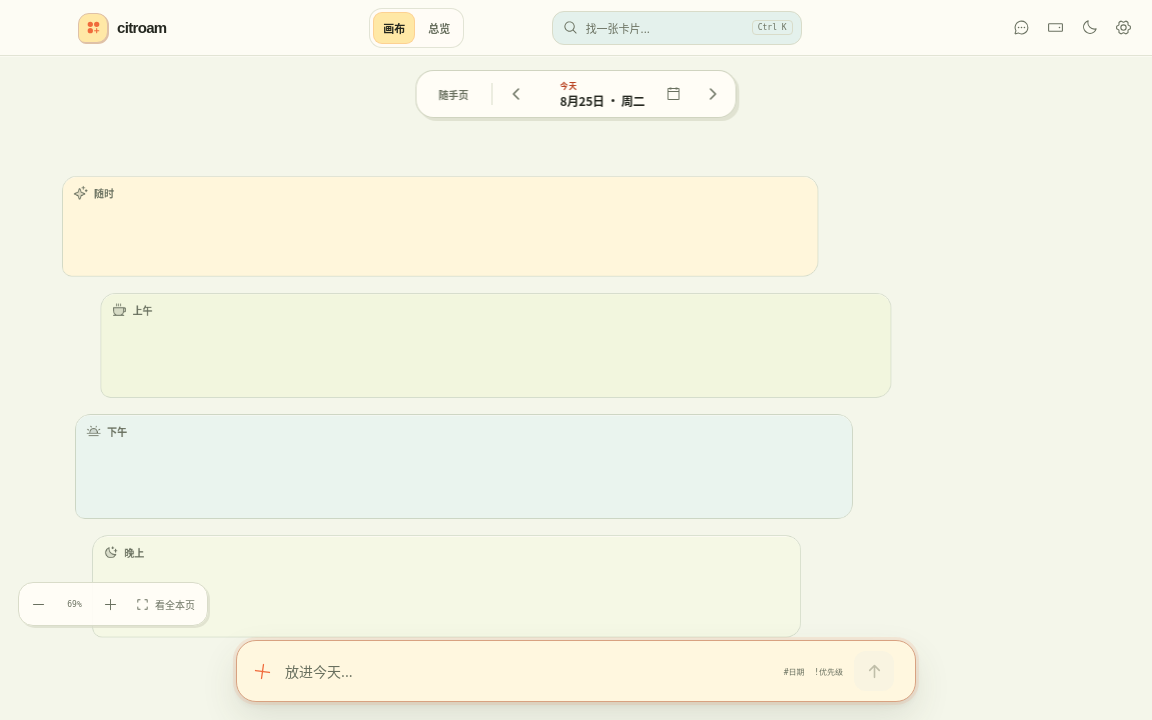
Test: date page canvas › turns pages without persisting empty date objects
The width and height of the screenshot is (1152, 720).
Expected: the element named "今天的画布" is shown, [50, 106, 904, 670]
Click the button named "后一天": click(712, 94) [694, 76, 730, 112]
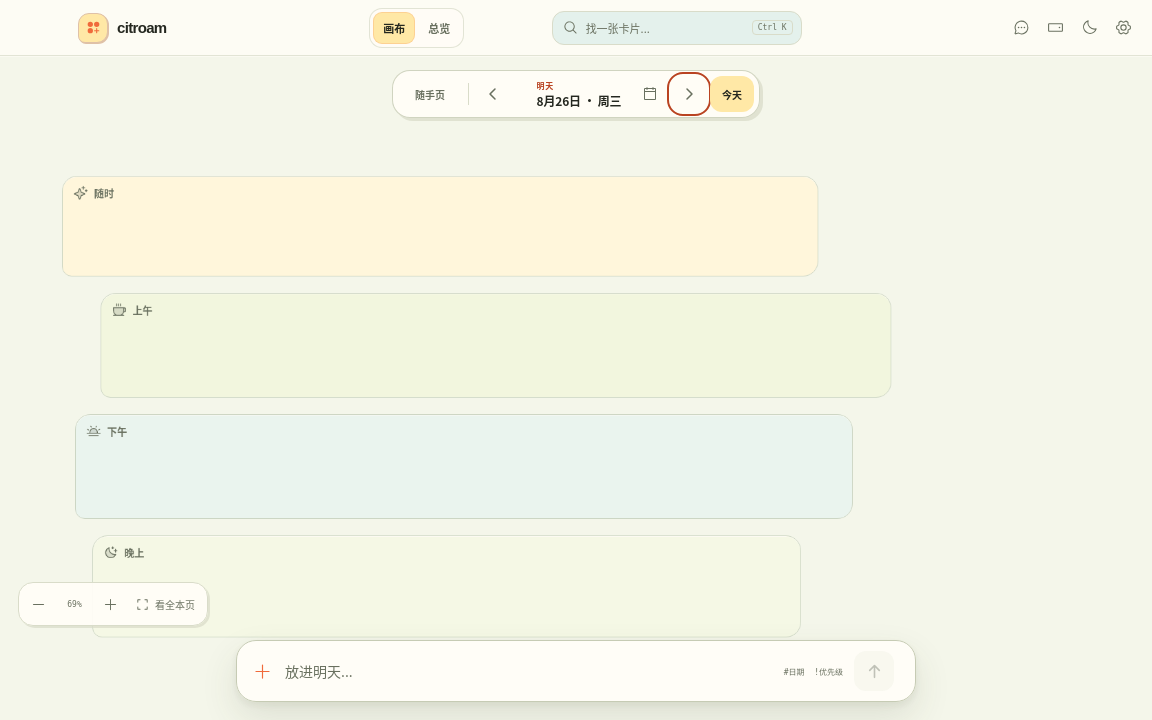
Expected: the element named "明天的画布" is shown, [50, 106, 904, 670]
